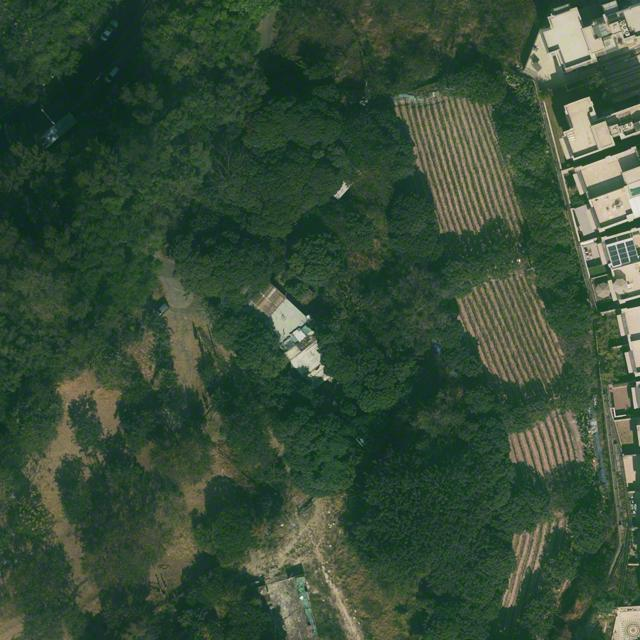panel: (607, 240, 638, 267)
